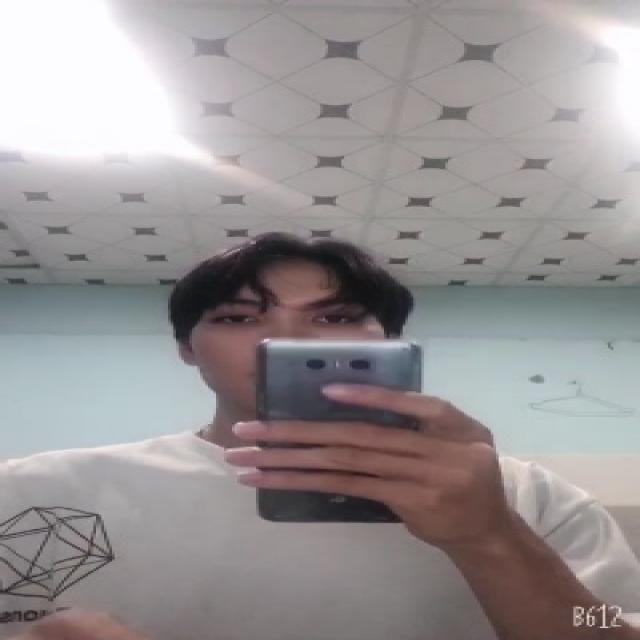Phone: (251, 336, 422, 526)
